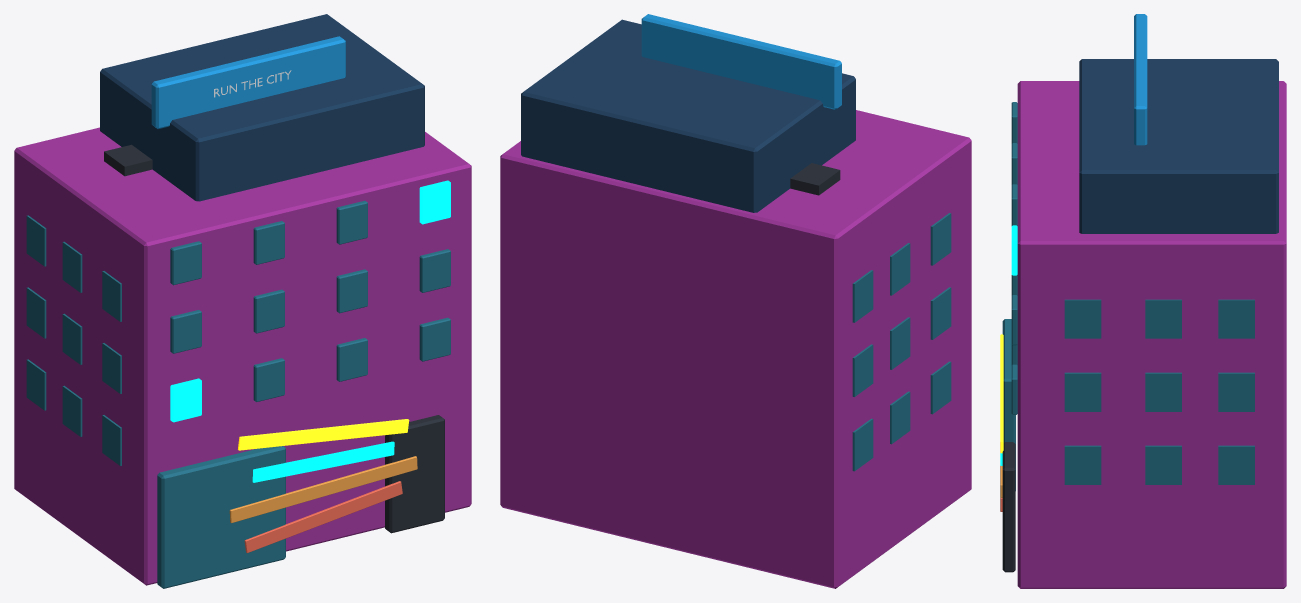
The model's file is city_block_c.glb.
The picture shows the model from 3 angles, left to right: view 1: azimuth 30°, elevation 25°; view 2: azimuth 150°, elevation 25°; view 3: azimuth 270°, elevation 25°; orthographic projection. The views are drawn at different scales.
Visible parts, largest first — view 1: C_Main, C_Setback, City_Block_C_Windows_FR_Glass, C_Storefront, C_RoofSign, C_ServiceDoor, C_MuralBand_1, C_MuralBand_3, City_Block_C_Windows_FR_Cyan, C_MuralBand_0, C_MuralBand_2, City_Block_C_ROOT_RoofVent_-2.9; view 2: C_Main, C_Setback, C_RoofSign, City_Block_C_Windows_FR_Glass, City_Block_C_ROOT_RoofVent_-2.9; view 3: C_Main, C_Setback, City_Block_C_Windows_FR_Glass, C_RoofSign, C_ServiceDoor, C_Storefront, C_MuralBand_3.
Boxes of the visible parts, x1,y1,x2,y2 form: C_Main: (14, 127, 471, 585); C_Setback: (100, 14, 424, 201); City_Block_C_Windows_FR_Glass: (26, 200, 450, 465); C_Storefront: (157, 446, 285, 588); C_RoofSign: (151, 36, 345, 128); C_ServiceDoor: (385, 415, 444, 533); C_MuralBand_1: (229, 456, 417, 523); C_MuralBand_3: (238, 419, 409, 450); City_Block_C_Windows_FR_Cyan: (170, 180, 450, 422); C_MuralBand_0: (244, 481, 402, 553); C_MuralBand_2: (252, 441, 394, 482); City_Block_C_ROOT_RoofVent_-2.9: (104, 144, 152, 176); C_Main: (500, 110, 971, 588); C_Setback: (521, 19, 855, 212); C_RoofSign: (641, 14, 841, 109); City_Block_C_Windows_FR_Glass: (852, 213, 951, 471); City_Block_C_ROOT_RoofVent_-2.9: (790, 163, 840, 195); C_Main: (1017, 81, 1286, 588); C_Setback: (1079, 59, 1278, 233); City_Block_C_Windows_FR_Glass: (1011, 102, 1254, 484); C_RoofSign: (1134, 14, 1147, 145); C_ServiceDoor: (1002, 442, 1015, 572); C_Storefront: (1002, 319, 1015, 490); C_MuralBand_3: (1000, 334, 1003, 453).
Size of the model in its own units: 10.11 by 12.9 by 7.45.
